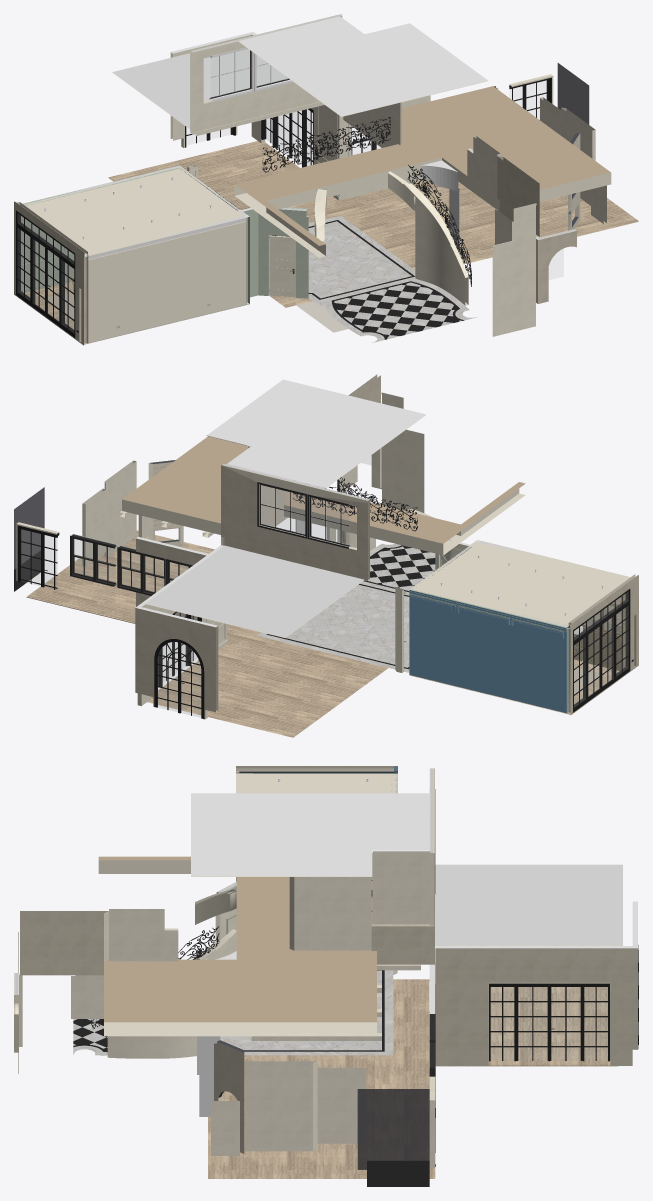
The model's file is dining-room-03e5021f0fbe.glb.
3 renders of one model, top to bottom at view 1: azimuth 30°, elevation 25°; view 2: azimuth 150°, elevation 25°; view 3: azimuth 270°, elevation 25°, orthographic. The views are drawn at different scales.
Visible parts, largest first — view 1: dining-room-look-2575515a05775d9e, dining-room-look-9d91b47435c6fb33, dining-room-look-3b0077416469e01b, dining-room-d999b7e09afcf2f4, dining-room-2575515a05775d9e, dining-room-look-4a969f5cc1ae3dfe, dining-room-look-245f595ae2832e16, dining-room-look-e388ad8855329420, dining-room-look-6ea1225136f14ed6, dining-room-look-d5a4a1b5d3594c04, dining-room-look-8c6a7019fd0063e7, dining-room-701dbbc71a4c8bc6 (+42 smaller); view 2: dining-room-look-3b0077416469e01b, dining-room-b19b106fc304963c, dining-room-look-9d91b47435c6fb33, dining-room-look-2575515a05775d9e, dining-room-look-4a969f5cc1ae3dfe, dining-room-2575515a05775d9e, dining-room-look-245f595ae2832e16, dining-room-look-6ea1225136f14ed6, dining-room-look-969b861f9850351e, dining-room-look-d5a4a1b5d3594c04, dining-room-look-cdd3b97a7e9637be, dining-room-look-e388ad8855329420 (+26 smaller); view 3: dining-room-look-2575515a05775d9e, dining-room-look-3b0077416469e01b, dining-room-look-9d91b47435c6fb33, dining-room-look-4a969f5cc1ae3dfe, dining-room-look-e706aa16b4547c37, dining-room-look-5b6bbac285e58726, dining-room-look-69af8f587252f9fa, dining-room-look-62353aa10fc57f23, dining-room-look-cbd4bf73d9724a66, dining-room-look-32b959c9aa406288, dining-room-look-99336d62df756830, dining-room-2575515a05775d9e (+21 smaller).
Boxes of the visible parts, box(x1,y1,x2,y2) form: dining-room-look-2575515a05775d9e: box(234, 86, 611, 257); dining-room-look-9d91b47435c6fb33: box(238, 16, 487, 116); dining-room-look-3b0077416469e01b: box(108, 141, 638, 307); dining-room-d999b7e09afcf2f4: box(88, 216, 246, 342); dining-room-2575515a05775d9e: box(15, 166, 248, 256); dining-room-look-4a969f5cc1ae3dfe: box(112, 49, 288, 129); dining-room-look-245f595ae2832e16: box(190, 14, 342, 134); dining-room-look-e388ad8855329420: box(334, 282, 461, 339); dining-room-look-6ea1225136f14ed6: box(269, 221, 411, 298); dining-room-look-d5a4a1b5d3594c04: box(492, 235, 535, 336); dining-room-look-8c6a7019fd0063e7: box(388, 171, 468, 305); dining-room-701dbbc71a4c8bc6: box(16, 210, 75, 337); dining-room-look-3b0077416469e01b: box(26, 530, 387, 737); dining-room-b19b106fc304963c: box(409, 590, 567, 713); dining-room-look-9d91b47435c6fb33: box(206, 379, 425, 488); dining-room-look-2575515a05775d9e: box(122, 436, 525, 555); dining-room-look-4a969f5cc1ae3dfe: box(146, 545, 364, 637); dining-room-2575515a05775d9e: box(410, 541, 637, 628); dining-room-look-245f595ae2832e16: box(221, 464, 369, 580); dining-room-look-6ea1225136f14ed6: box(286, 584, 409, 667); dining-room-look-969b861f9850351e: box(135, 606, 218, 712); dining-room-look-d5a4a1b5d3594c04: box(382, 429, 424, 512); dining-room-look-cdd3b97a7e9637be: box(257, 482, 307, 538); dining-room-look-e388ad8855329420: box(368, 546, 435, 590); dining-room-look-2575515a05775d9e: box(98, 856, 376, 1036); dining-room-look-3b0077416469e01b: box(208, 979, 617, 1178); dining-room-look-9d91b47435c6fb33: box(191, 793, 429, 876); dining-room-look-4a969f5cc1ae3dfe: box(435, 864, 622, 945); dining-room-look-e706aa16b4547c37: box(435, 946, 632, 1065); dining-room-look-5b6bbac285e58726: box(245, 1061, 317, 1151); dining-room-look-69af8f587252f9fa: box(289, 877, 371, 950); dining-room-look-62353aa10fc57f23: box(20, 911, 108, 975); dining-room-look-cbd4bf73d9724a66: box(357, 1089, 429, 1169); dining-room-look-32b959c9aa406288: box(372, 851, 429, 924); dining-room-look-99336d62df756830: box(317, 1068, 365, 1143); dining-room-2575515a05775d9e: box(236, 766, 397, 793).
Size of the model in its own units: 20 by 6.36 by 16.79.
52 materials, 15 textured.
